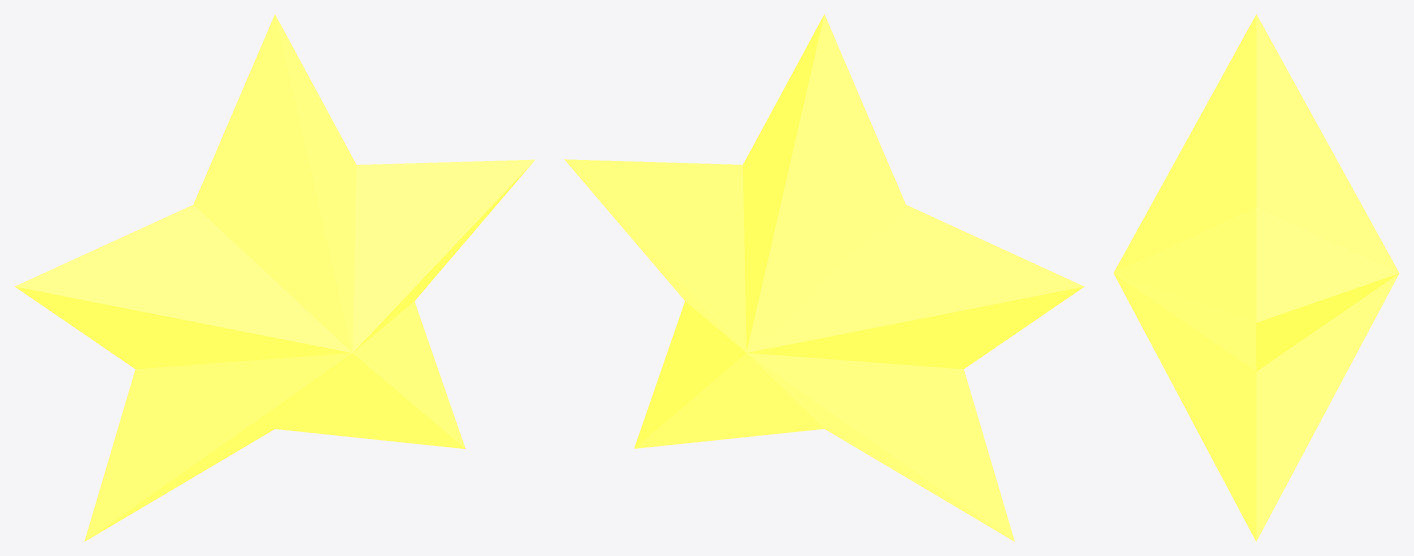
Rendered from Star_Art.fbx.
The picture shows the model from 3 angles, left to right: view 1: azimuth 30°, elevation 25°; view 2: azimuth 150°, elevation 25°; view 3: azimuth 270°, elevation 25°; orthographic projection. The views are drawn at different scales.
Visible parts, largest first — view 1: Star_Art; view 2: Star_Art; view 3: Star_Art.
Part boxes in pixels (left/top/right/bottom): Star_Art: left=15, top=14, right=534, bottom=541; Star_Art: left=564, top=14, right=1084, bottom=541; Star_Art: left=1113, top=14, right=1399, bottom=541.
Size of the model in its own units: 0.7676 by 0.6783 by 0.3973.
